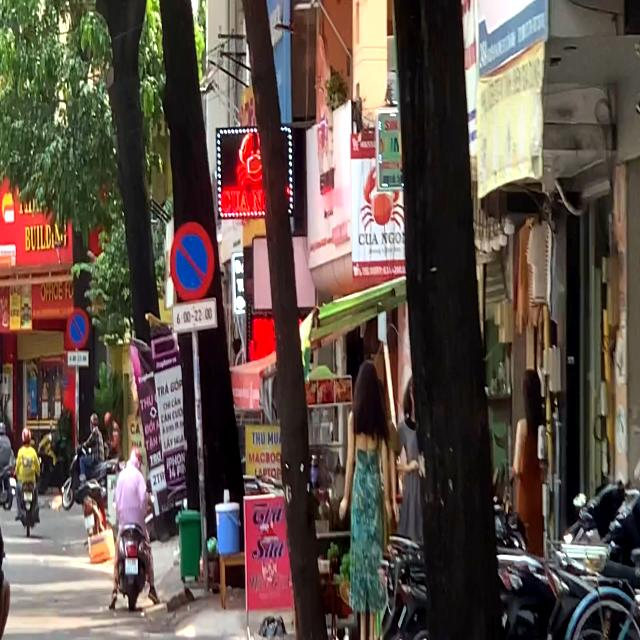P.131a: (170, 222, 215, 302), (67, 307, 89, 349)
